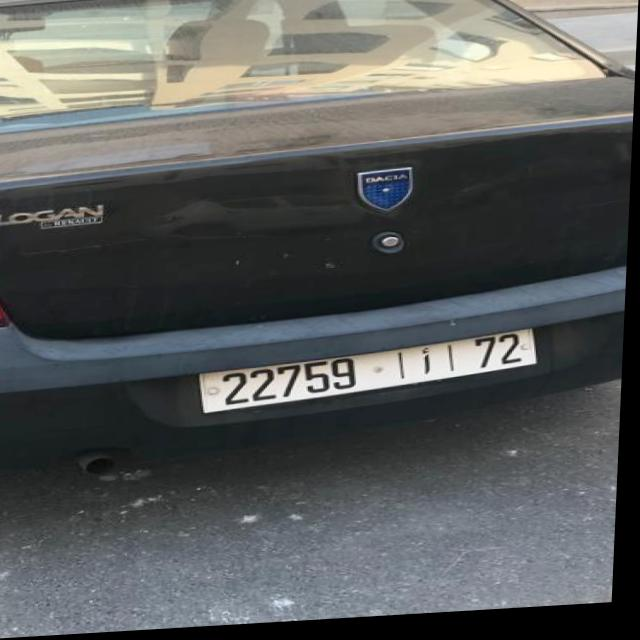License-Plate: (208, 336, 536, 414)
